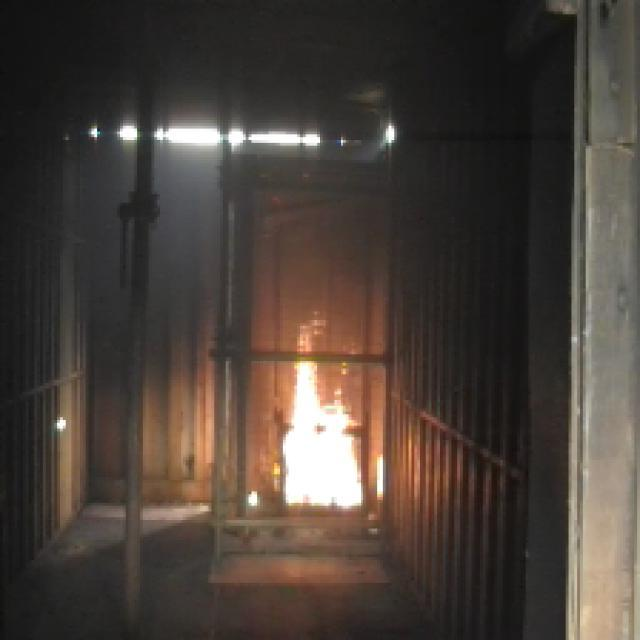Fire: (286, 332, 354, 512)
